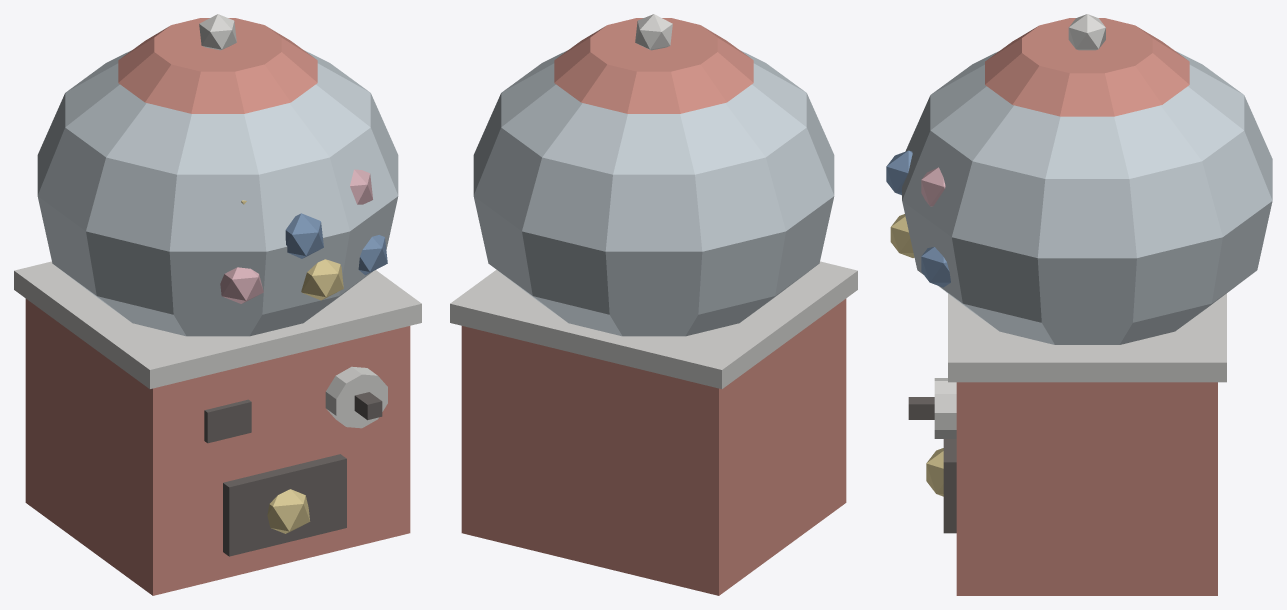
Rendered from gachapon.glb.
3 renders of one model, left to right at view 1: azimuth 30°, elevation 25°; view 2: azimuth 150°, elevation 25°; view 3: azimuth 270°, elevation 25°, orthographic. The views are drawn at different scales.
Visible parts, largest first — view 1: gachapon; view 2: gachapon; view 3: gachapon.
Part boxes in pixels (x1,y1,x2,y2): gachapon: (14, 14, 421, 595); gachapon: (450, 14, 857, 595); gachapon: (886, 14, 1272, 595).
Size of the model in its own units: 1.7 by 2.62 by 1.77.
